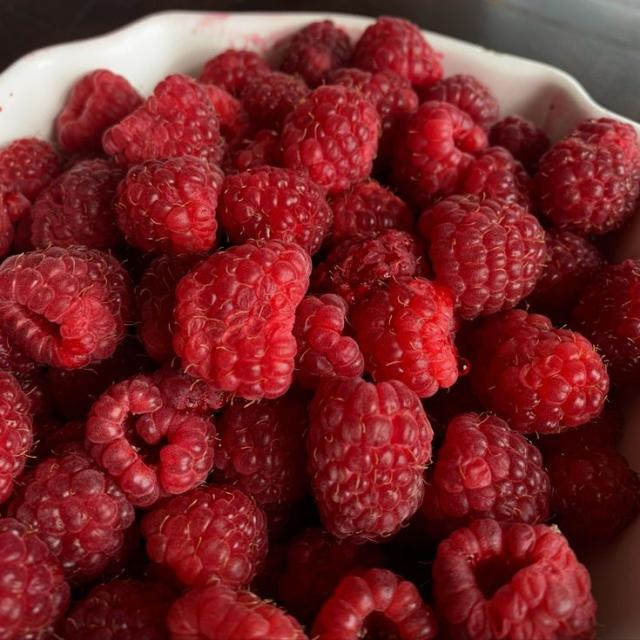raspberry: (174, 240, 310, 400), (307, 378, 432, 542), (433, 519, 595, 639), (9, 444, 134, 581), (472, 310, 608, 433), (87, 376, 215, 506), (419, 195, 545, 319), (0, 247, 129, 368), (421, 413, 550, 532), (351, 278, 458, 397), (142, 486, 267, 587), (103, 75, 222, 167), (282, 85, 381, 195), (214, 394, 308, 508), (115, 156, 223, 254), (545, 432, 639, 542), (535, 137, 639, 234), (278, 528, 383, 623), (218, 167, 332, 254), (392, 101, 486, 206), (48, 336, 153, 420), (312, 569, 437, 639), (331, 69, 418, 167), (312, 230, 427, 304), (31, 159, 124, 250), (572, 260, 639, 385), (0, 518, 69, 639), (168, 584, 308, 639), (135, 254, 203, 362), (526, 228, 603, 322), (57, 70, 142, 154), (294, 294, 363, 388), (65, 579, 173, 639), (352, 17, 442, 86), (424, 359, 482, 451), (330, 181, 413, 243), (0, 139, 61, 220), (281, 21, 352, 86), (0, 371, 33, 503), (461, 147, 532, 208), (533, 409, 622, 457), (420, 75, 499, 129), (241, 72, 309, 130), (153, 365, 227, 416), (568, 118, 639, 169), (249, 509, 288, 601), (489, 116, 550, 174), (199, 50, 270, 96), (201, 84, 249, 141), (223, 130, 280, 175), (0, 184, 31, 254), (34, 418, 85, 458), (0, 329, 39, 378), (16, 368, 52, 421), (14, 207, 34, 253), (0, 193, 14, 258)
